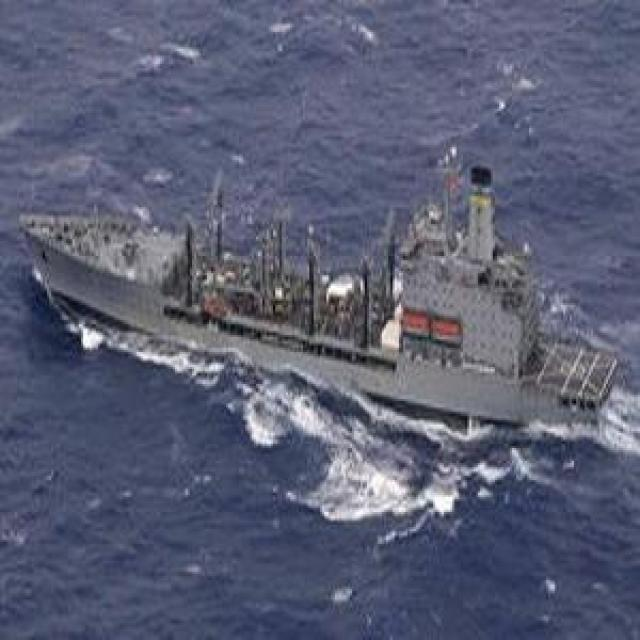navalvessels: (21, 163, 619, 423)
